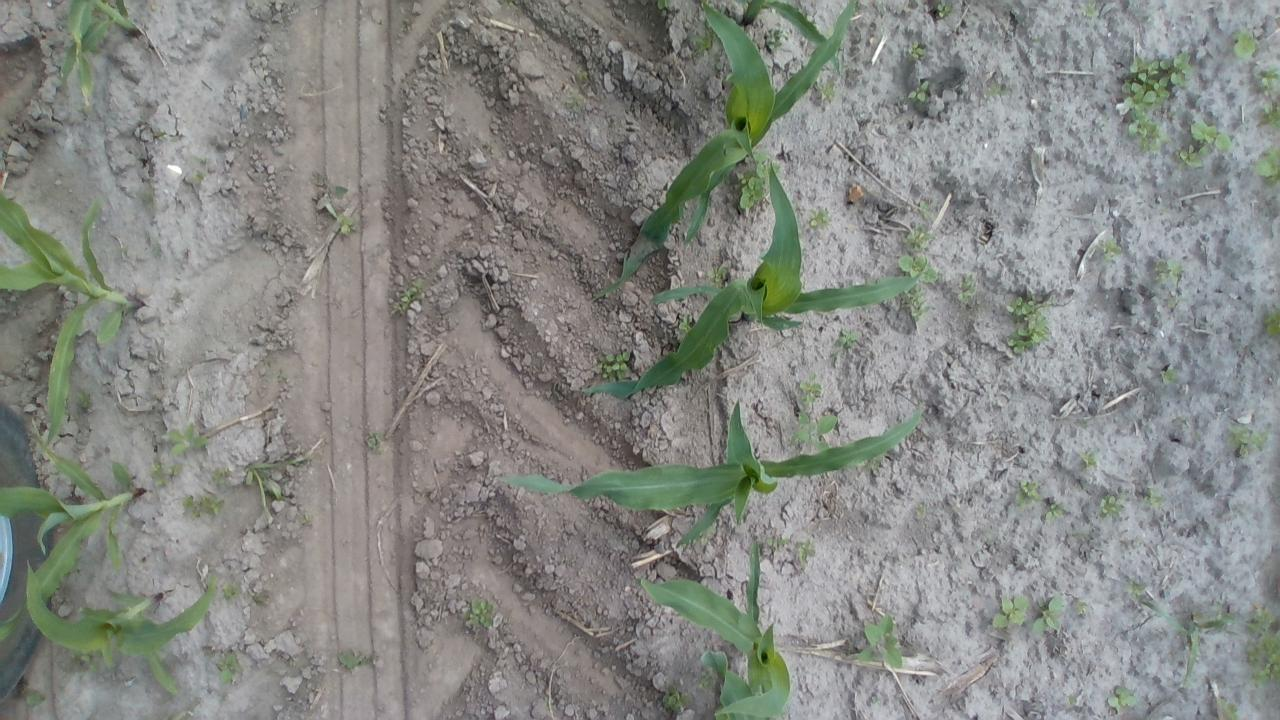Maize: (581, 160, 923, 400), (591, 0, 860, 298), (494, 396, 924, 548), (0, 190, 141, 457), (0, 419, 143, 640), (19, 562, 216, 698), (643, 540, 789, 720), (60, 0, 136, 107), (742, 0, 844, 74)
Weeds: (1145, 602, 1201, 687), (1124, 50, 1193, 109), (248, 456, 304, 515), (1003, 294, 1054, 352), (1244, 608, 1280, 688), (736, 151, 781, 209), (856, 612, 902, 668), (1128, 106, 1170, 154), (794, 413, 838, 452), (1191, 120, 1234, 154), (687, 20, 724, 56), (991, 594, 1028, 630), (391, 278, 426, 314), (1200, 601, 1238, 634), (169, 423, 209, 454), (1030, 596, 1064, 631), (898, 255, 937, 284), (1255, 144, 1280, 186), (596, 352, 630, 382), (459, 599, 494, 628), (904, 282, 930, 320), (661, 685, 693, 713), (1252, 63, 1280, 94), (902, 226, 935, 250), (1110, 686, 1140, 712), (218, 652, 242, 684), (69, 650, 102, 673), (1175, 145, 1204, 171), (1260, 97, 1280, 134), (1232, 30, 1258, 58), (1098, 236, 1123, 264), (1016, 478, 1040, 506), (956, 273, 978, 303), (1152, 260, 1182, 282), (1100, 492, 1126, 517), (764, 27, 791, 51), (1260, 304, 1280, 336), (800, 373, 821, 402), (338, 650, 368, 669), (1226, 424, 1252, 445), (1216, 696, 1238, 720), (199, 494, 223, 516), (834, 329, 861, 348), (906, 40, 928, 63), (704, 266, 726, 288), (334, 212, 356, 234), (564, 89, 584, 113), (696, 669, 716, 692), (797, 539, 815, 564), (910, 80, 930, 102), (74, 387, 94, 409), (1044, 500, 1064, 521), (854, 455, 882, 470), (1251, 430, 1270, 452), (150, 462, 166, 488), (182, 495, 200, 518), (810, 208, 830, 228), (932, 0, 954, 18), (678, 314, 692, 340), (1078, 448, 1097, 467), (816, 82, 836, 100), (1129, 581, 1149, 599), (1144, 488, 1164, 506), (188, 170, 207, 188), (1083, 0, 1100, 20), (1160, 368, 1178, 386), (365, 431, 384, 448), (223, 582, 241, 599), (26, 692, 45, 708), (707, 49, 722, 69), (213, 469, 230, 486), (1164, 294, 1182, 310), (138, 190, 156, 206), (918, 201, 932, 221), (764, 536, 786, 548), (1074, 599, 1090, 615), (165, 463, 182, 477), (253, 594, 270, 608), (336, 184, 350, 198), (1236, 443, 1250, 456), (984, 86, 1002, 96), (300, 512, 312, 526), (658, 0, 672, 9), (153, 244, 162, 258), (576, 70, 588, 80), (916, 506, 928, 516), (1067, 694, 1076, 706), (1076, 531, 1088, 540), (263, 357, 276, 365), (154, 128, 164, 138), (195, 158, 206, 165), (1170, 110, 1178, 118)
